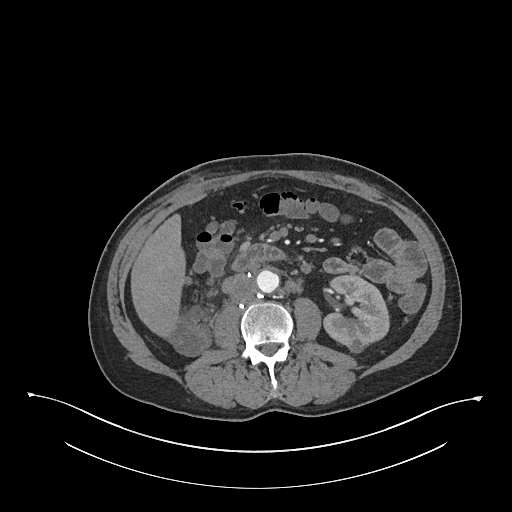Lesion: (345, 335, 367, 356)
